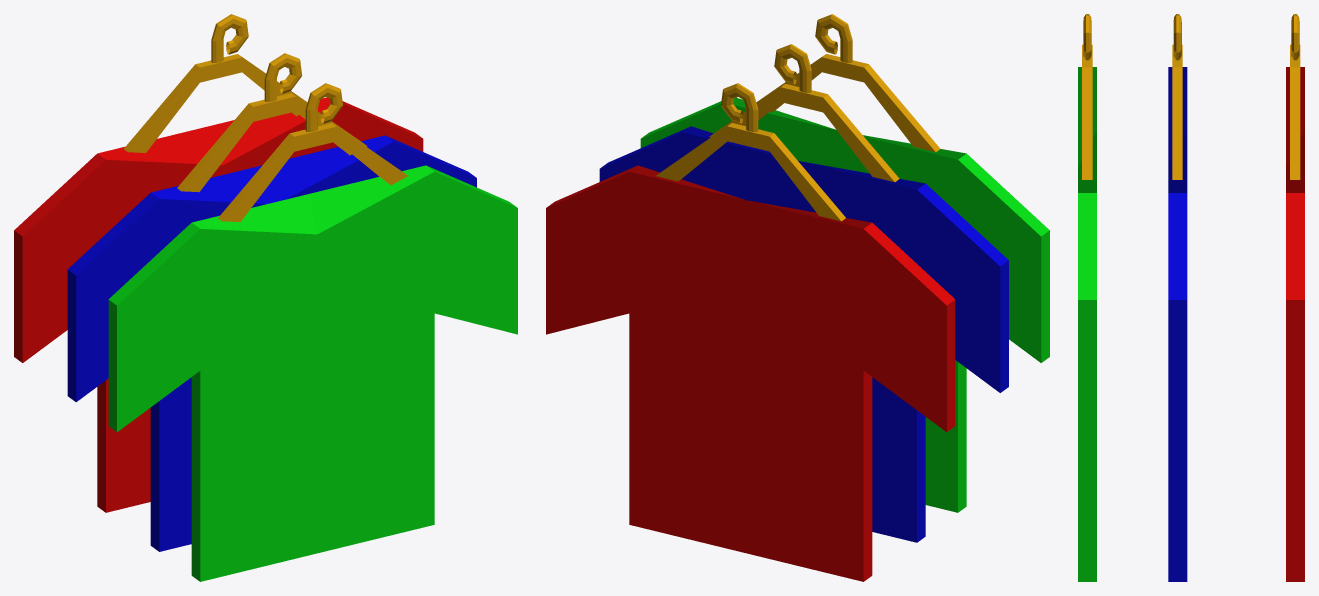
The model's file is Mesh_vetements_001.fbx.
The picture shows the model from 3 angles, left to right: view 1: azimuth 30°, elevation 25°; view 2: azimuth 150°, elevation 25°; view 3: azimuth 270°, elevation 25°; orthographic projection. The views are drawn at different scales.
Visible parts, largest first — view 1: Mesh_vetement_001, Mesh_vetement_003, Mesh_vetement_002; view 2: Mesh_vetement_003, Mesh_vetement_002, Mesh_vetement_001; view 3: Mesh_vetement_002, Mesh_vetement_001, Mesh_vetement_003.
Boxes of the visible parts, x1,y1,x2,y2 form: Mesh_vetement_001: (108, 83, 517, 581); Mesh_vetement_003: (14, 14, 423, 512); Mesh_vetement_002: (67, 53, 476, 551); Mesh_vetement_003: (546, 83, 955, 581); Mesh_vetement_002: (599, 44, 1008, 542); Mesh_vetement_001: (640, 14, 1049, 512); Mesh_vetement_002: (1168, 14, 1187, 581); Mesh_vetement_001: (1078, 14, 1096, 581); Mesh_vetement_003: (1286, 14, 1304, 581).
Size of the model in its own units: 84.47 by 93.37 by 37.61.
